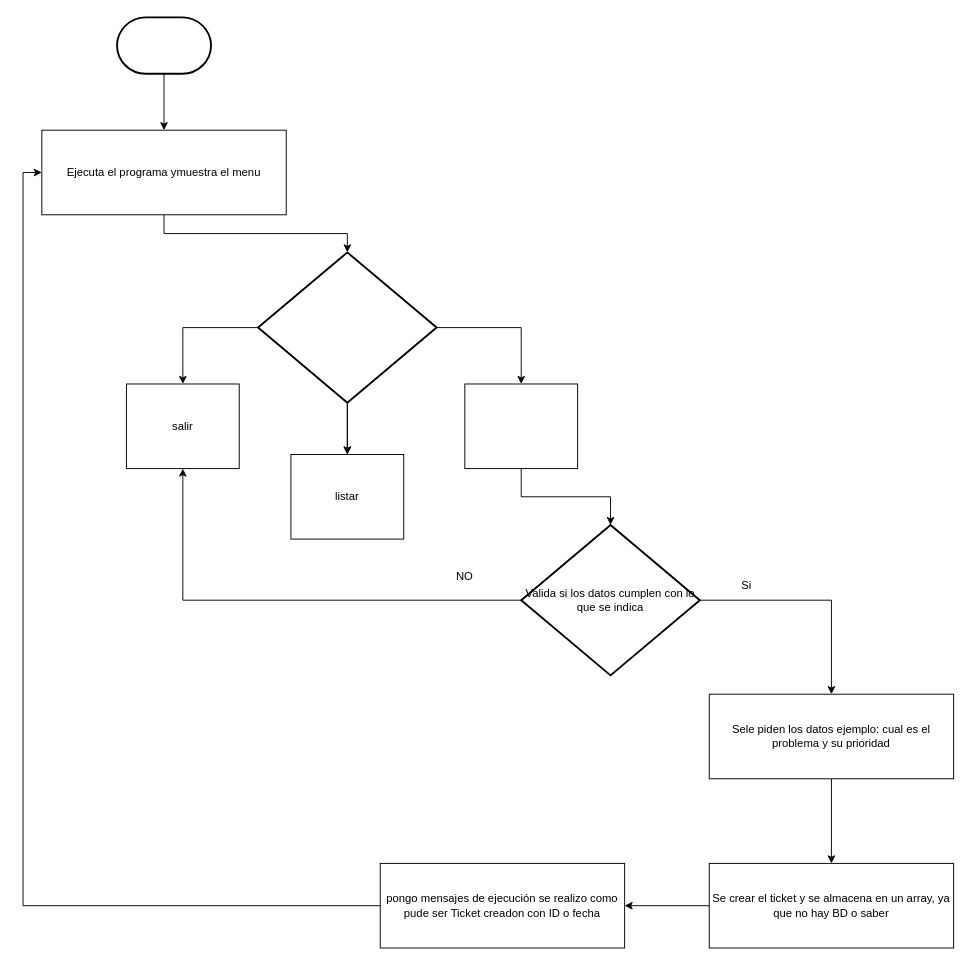
Image size: 970x964. Some labels were removed from this diagram. The shapes that lost their labels are listed below. From the top down, each one's centre as x and y in pixels, then its label:
(164,45): Usuario
(347,327): Usuario eleige una opcion
(521,426): crear ticket
